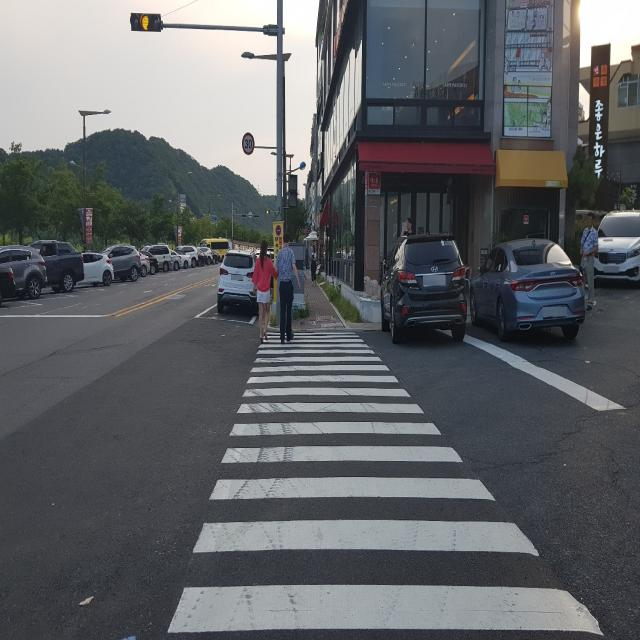횡단보도: (168, 332, 602, 634)
